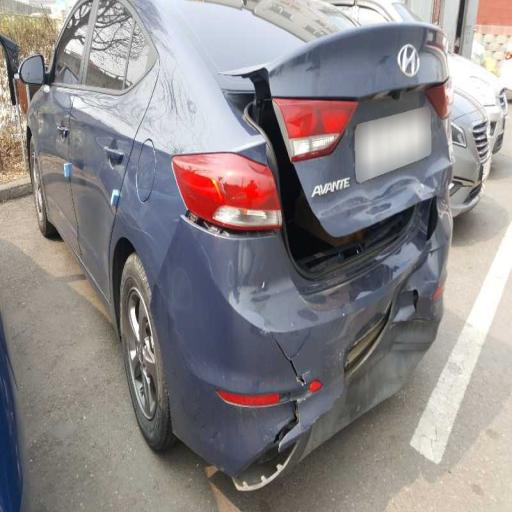broken: (182, 288, 350, 506)
dent: (211, 30, 447, 277)
